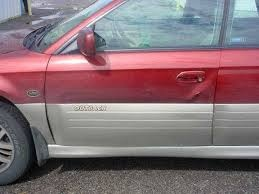Dent: (50, 88, 153, 126), (171, 69, 221, 111)
